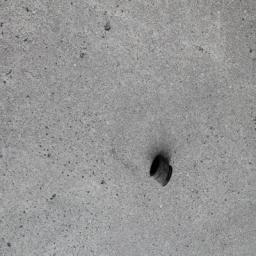FOD: (147, 153, 179, 191)
